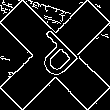P_SE: (24, 24, 86, 86)
